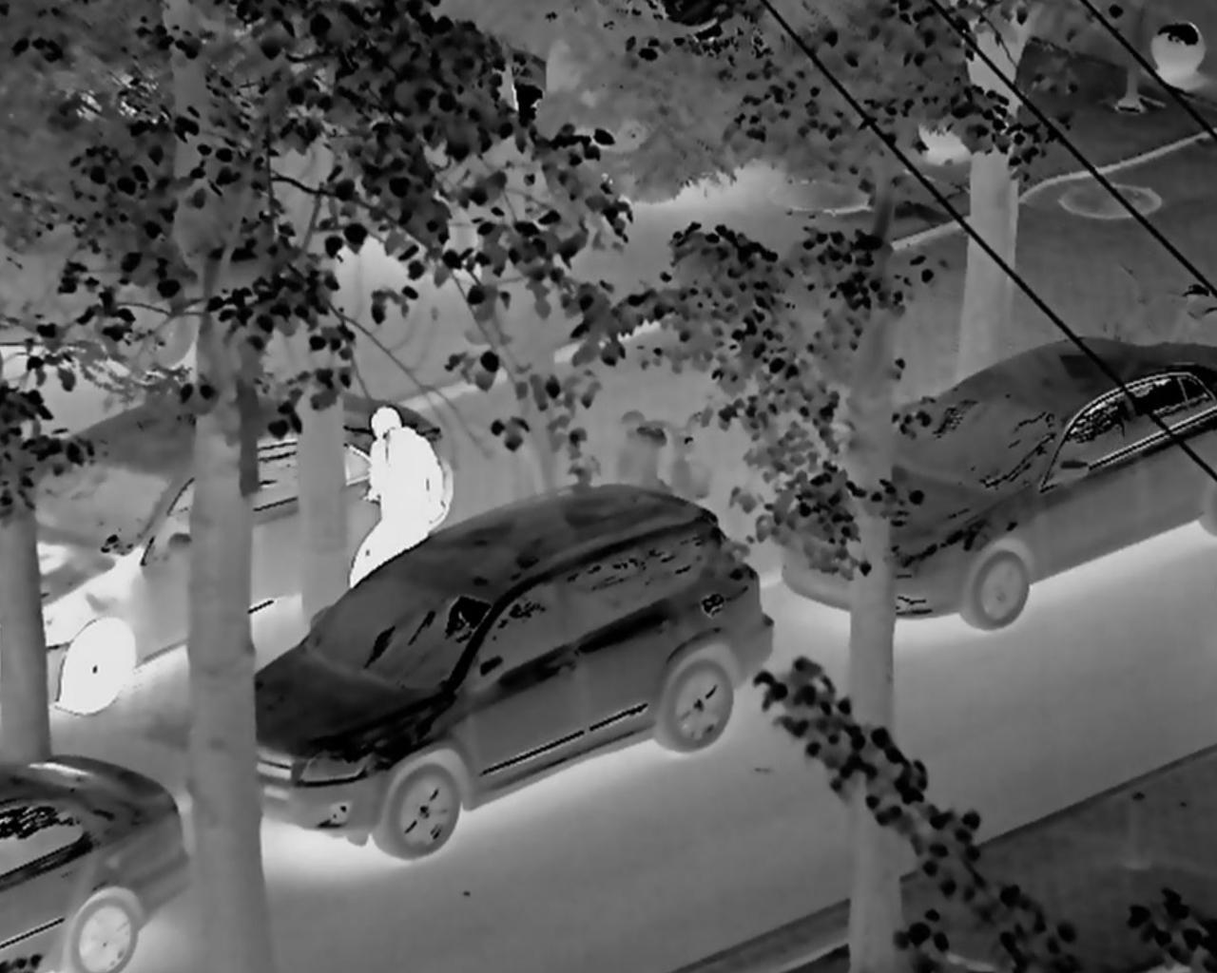person: (341, 403, 448, 585)
